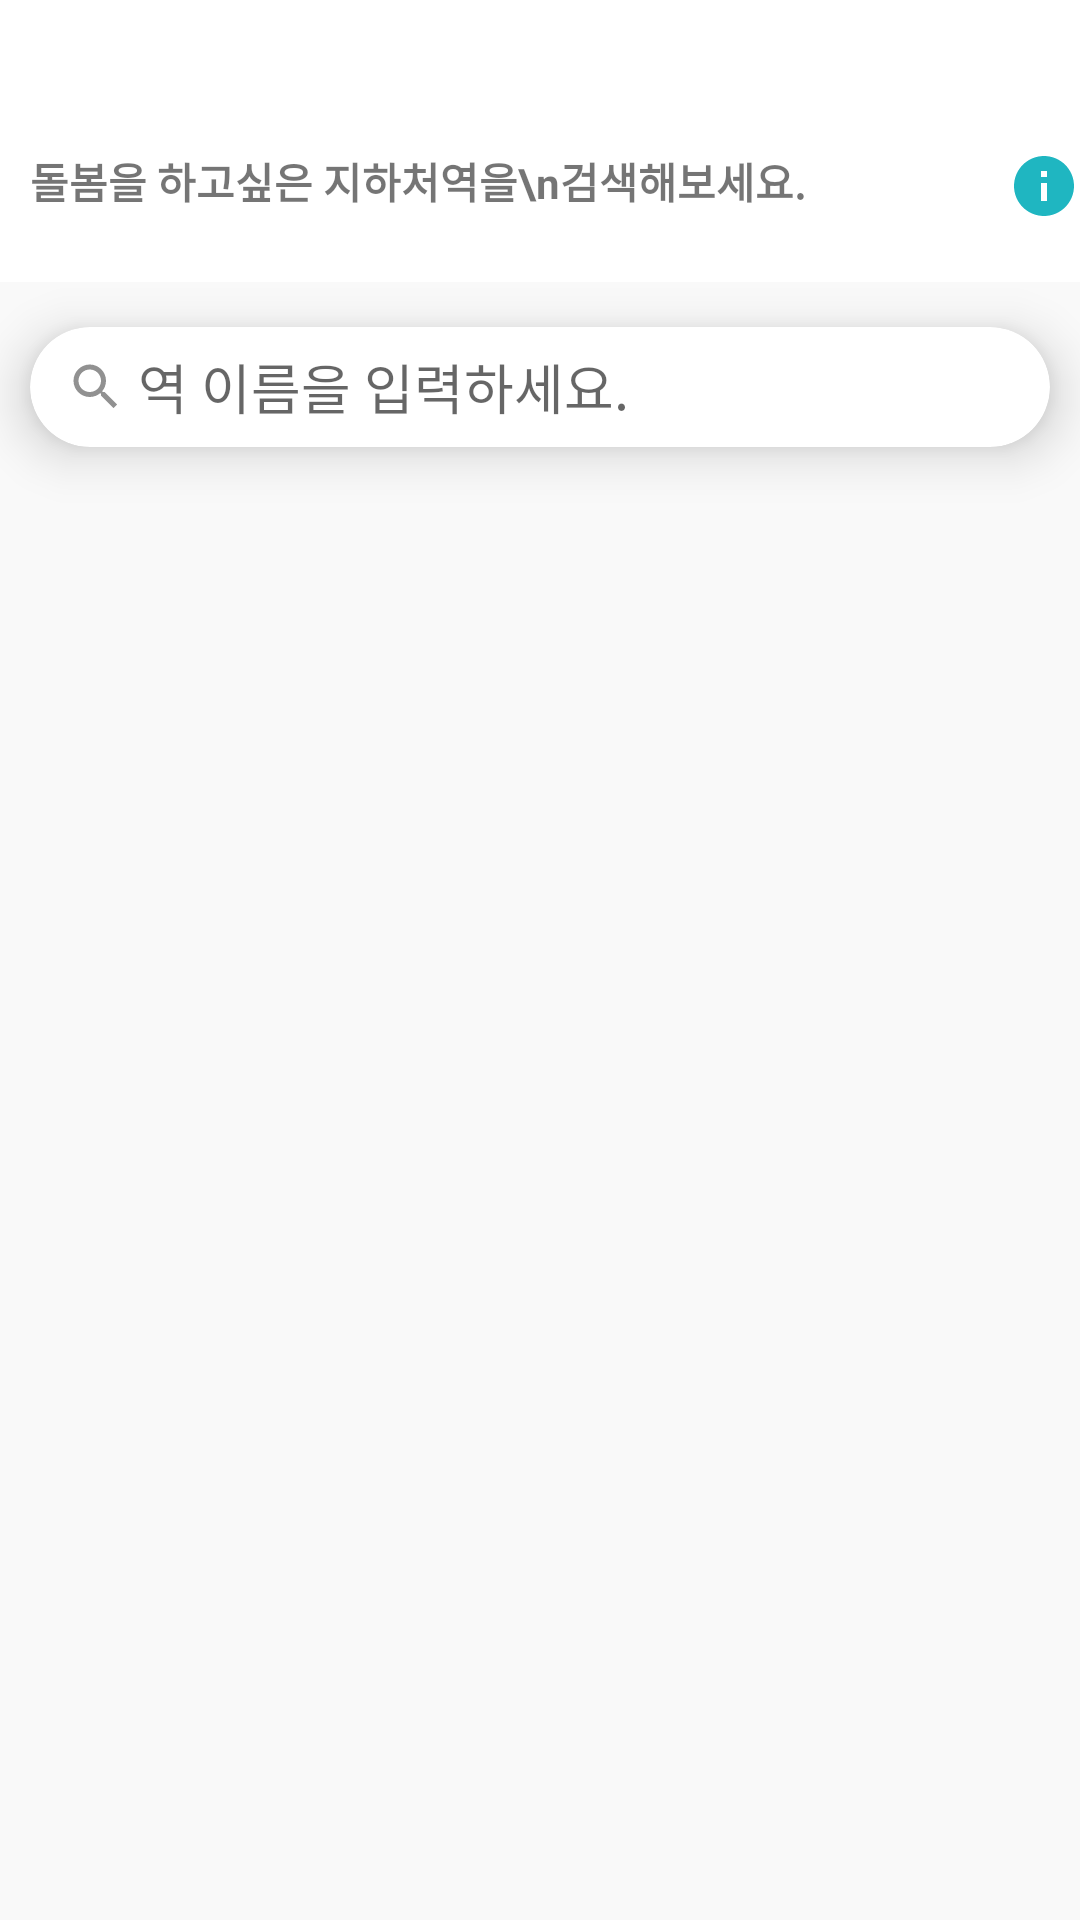

Where to tap for icons on this 1080 × 1920 app screen, as [x,y]:
info: [1044,186]
search: [95,386]
